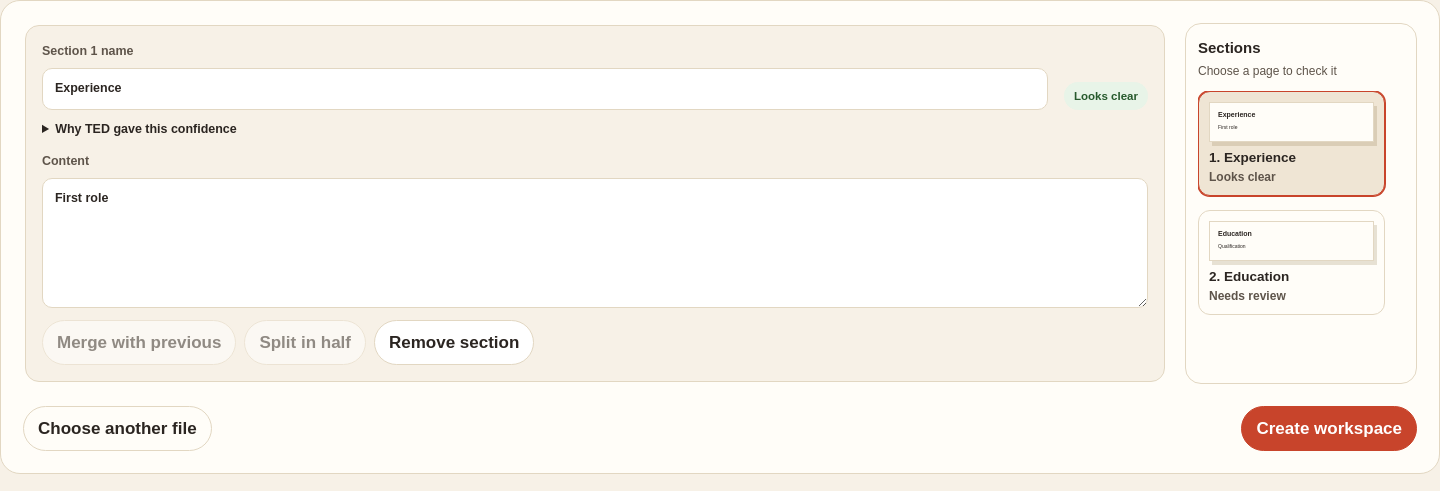
Test: ImportReviewPanel › uses one active editor with a section preview rail
Expected: the element named "Imported document sections" is shown, top-left (1185, 23), bottom-right (1417, 384)
Expected: the field showing "Experience" is shown, top-left (42, 68), bottom-right (1048, 110)
Click the button with aria-label "Edit section 2: Education".
click(1292, 263)  # box top-left (1198, 210), bottom-right (1385, 315)
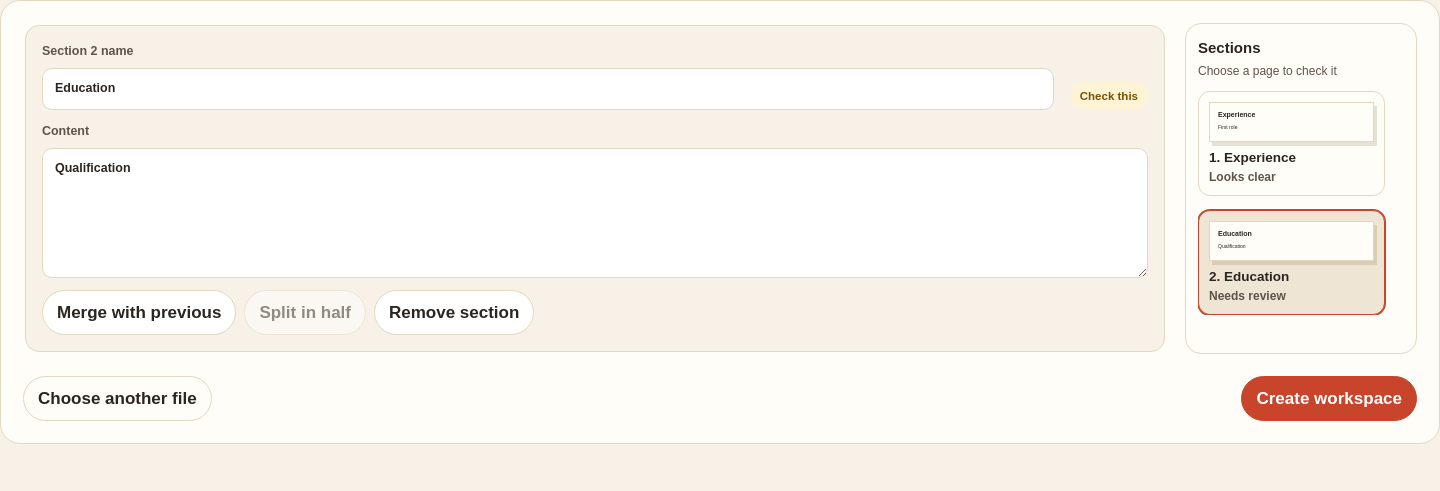
Result: the field showing "Education" is shown at top-left (42, 68), bottom-right (1054, 110)
